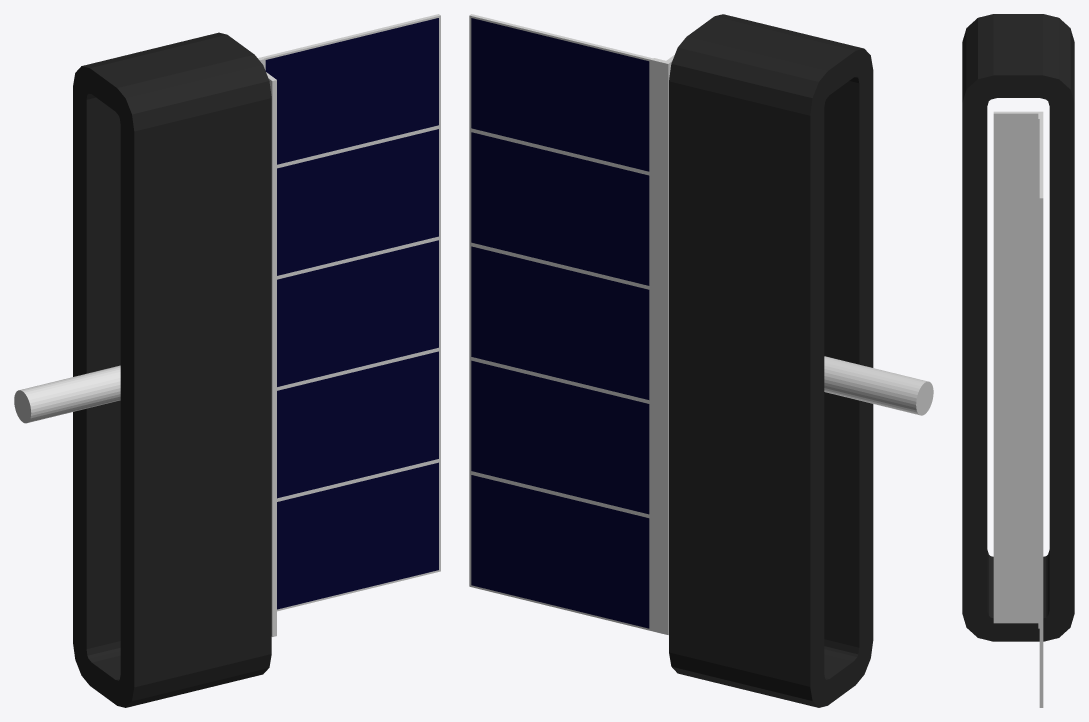
Rendered from SolarPanel.glb.
3 views of the same model, side by side, from view 1: azimuth 30°, elevation 25°; view 2: azimuth 150°, elevation 25°; view 3: azimuth 270°, elevation 25° (orthographic). The views are drawn at different scales.
Parts seen in each view (by area): view 1: solar_panel_hole1, solar_panel_1, solar_panel_holder; view 2: solar_panel_hole1, solar_panel_1, solar_panel_holder; view 3: solar_panel_hole1, solar_panel_holder, solar_panel_1.
Boxes of the visible parts, x1,y1,x2,y2 form: solar_panel_hole1: (73,32,271,707); solar_panel_1: (262,14,440,611); solar_panel_holder: (14,57,276,636); solar_panel_hole1: (669,14,873,707); solar_panel_1: (469,14,652,630); solar_panel_holder: (651,54,933,634); solar_panel_hole1: (962,14,1074,641); solar_panel_holder: (993,111,1043,628); solar_panel_1: (1039,119,1043,707).
Bounding box in the file's own units: 0.728 × 0.9999 × 0.18.
